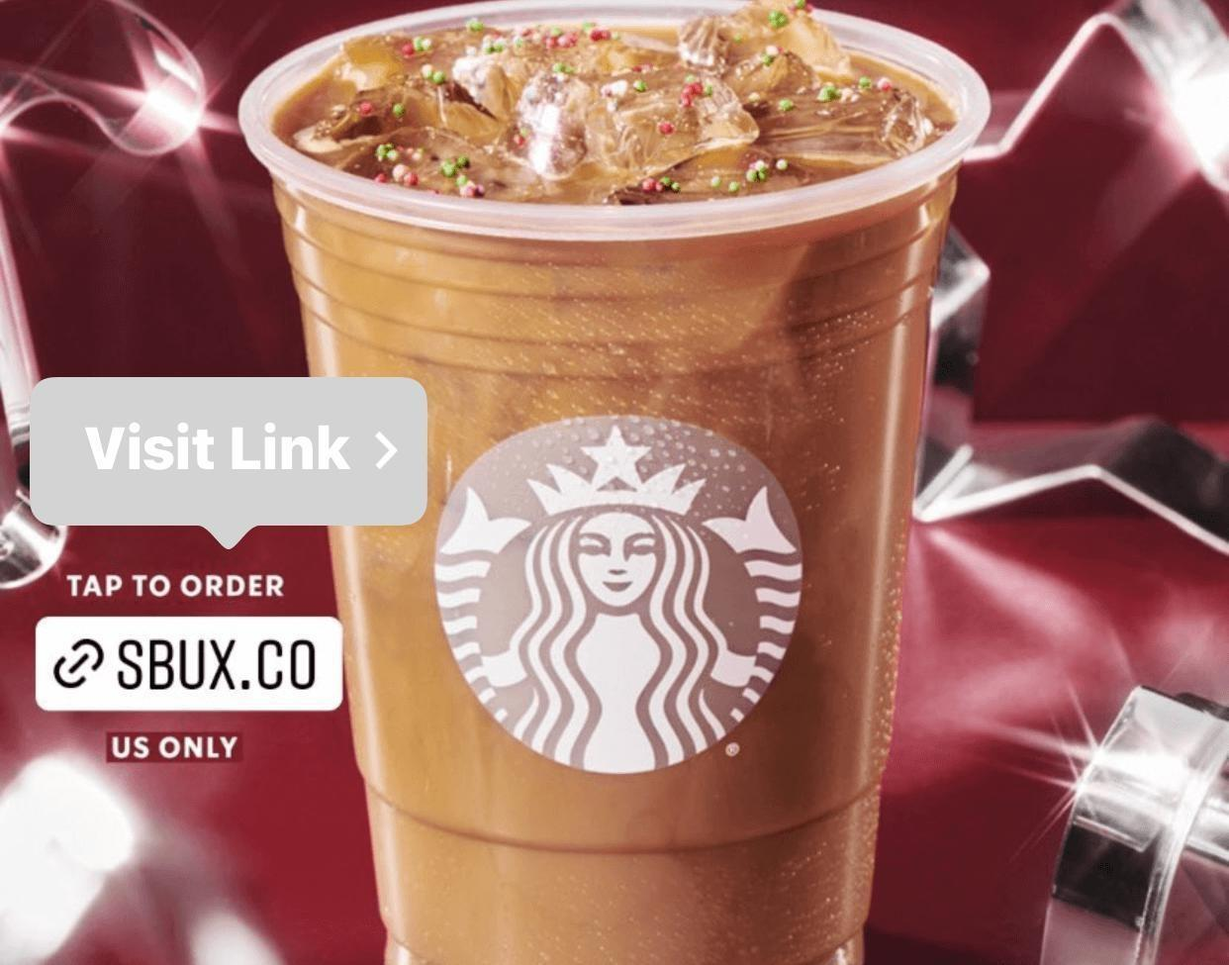cup-disposable: (234, 1, 993, 964)
